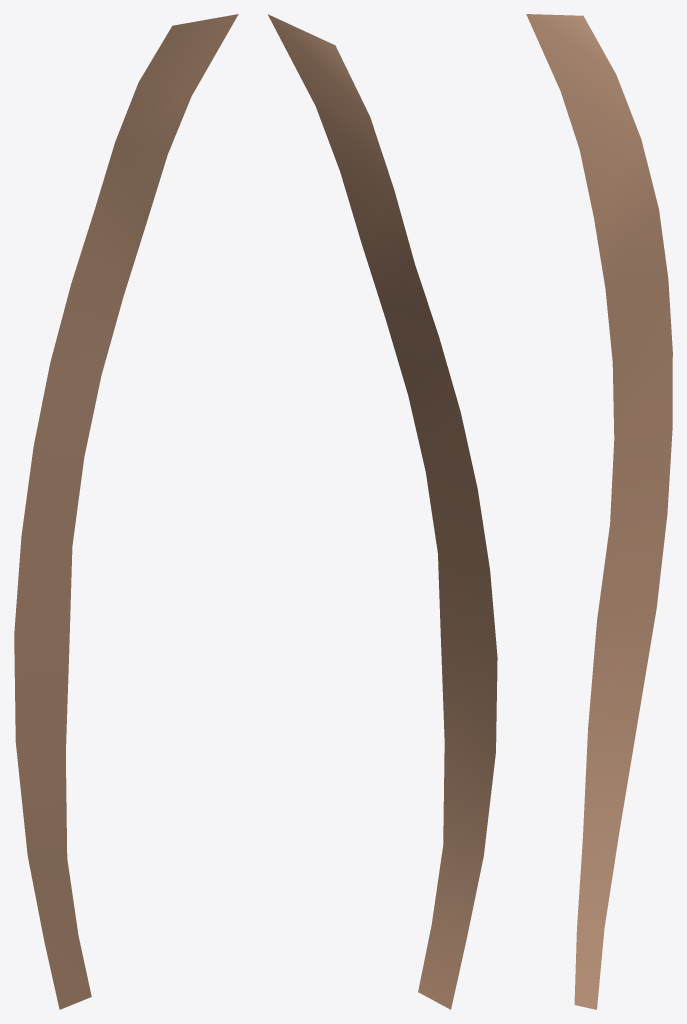
File: lateral-bicipital-groove-r.glb
3 views of the same model, side by side, from view 1: azimuth 30°, elevation 25°; view 2: azimuth 210°, elevation 25°; view 3: azimuth 270°, elevation 25° (orthographic). The views are drawn at different scales.
Visible parts, largest first — view 1: Lateral bicipital groove.r; view 2: Lateral bicipital groove.r; view 3: Lateral bicipital groove.r.
Part boxes in pixels (left/top/right/bottom): Lateral bicipital groove.r: left=14, top=14, right=238, bottom=1009; Lateral bicipital groove.r: left=268, top=14, right=497, bottom=1009; Lateral bicipital groove.r: left=526, top=14, right=672, bottom=1009.
Size of the model in its own units: 0.0238 by 0.1307 by 0.0162.
